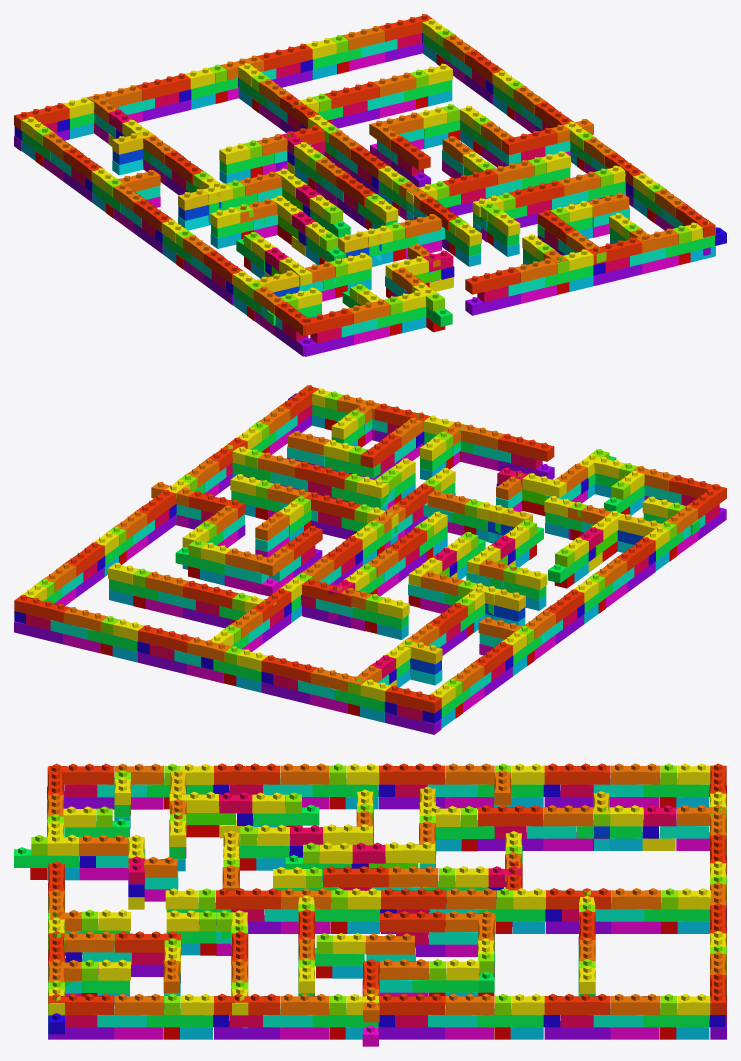
Rendered from labirentazpol.fbx.
The picture shows the model from 3 angles, top to bottom: view 1: azimuth 30°, elevation 25°; view 2: azimuth 150°, elevation 25°; view 3: azimuth 270°, elevation 25°; orthographic projection. The views are drawn at different scales.
Parts seen in each view (by area): view 1: Cube.181; view 2: Cube.181; view 3: Cube.181.
Boxes of the visible parts, x1,y1,x2,y2 form: Cube.181: [14, 14, 726, 356]; Cube.181: [14, 385, 726, 734]; Cube.181: [14, 763, 726, 1046].
Size of the model in its own units: 6102 by 7513 by 484.
